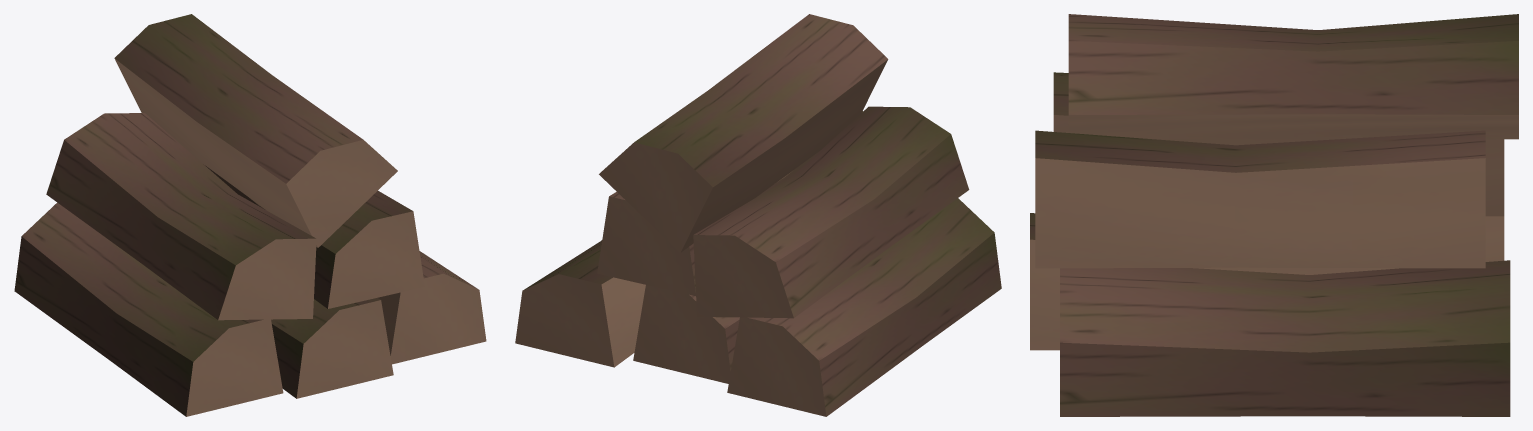
File: timberPILE_mesh.fbx
3 views of the same model, side by side, from view 1: azimuth 30°, elevation 25°; view 2: azimuth 150°, elevation 25°; view 3: azimuth 270°, elevation 25° (orthographic). The views are drawn at different scales.
Parts seen in each view (by area): view 1: pCube9; view 2: pCube9; view 3: pCube9.
Boxes of the visible parts, <box> form: pCube9: <box>14,14,486,416</box>; pCube9: <box>515,14,1001,416</box>; pCube9: <box>1030,14,1518,416</box>.
Size of the model in its own units: 39.58 by 28.57 by 42.25.
